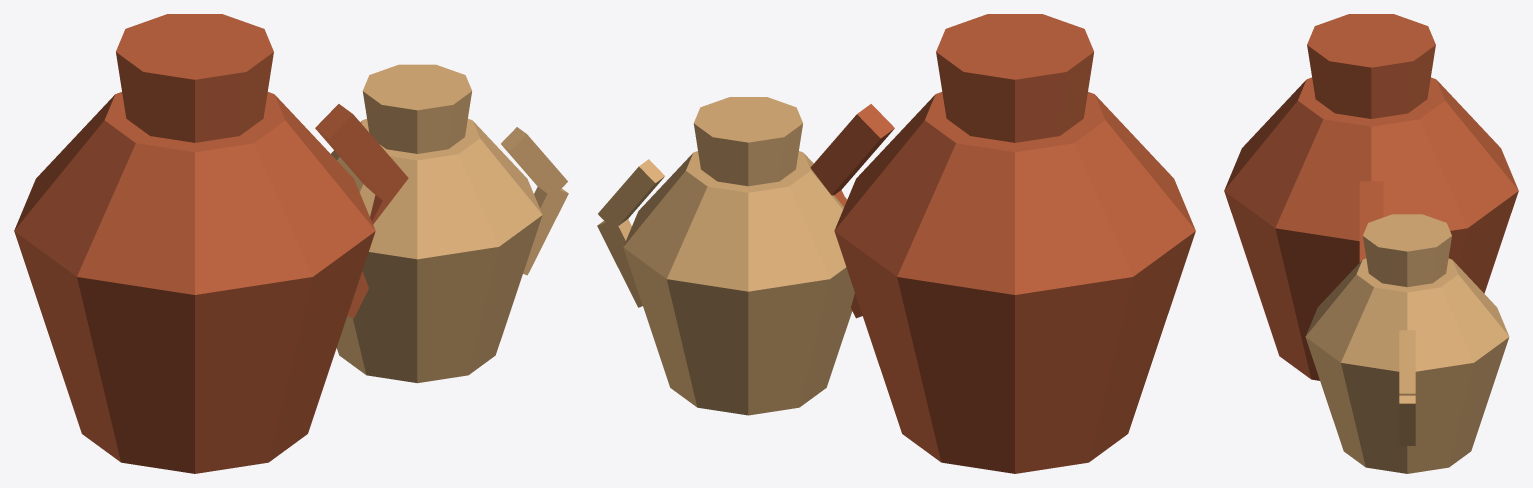
The model's file is Jugs.fbx.
3 views of the same model, side by side, from view 1: azimuth 30°, elevation 25°; view 2: azimuth 150°, elevation 25°; view 3: azimuth 270°, elevation 25° (orthographic). The views are drawn at different scales.
Visible parts, largest first — view 1: Jugs; view 2: Jugs; view 3: Jugs.
Boxes of the visible parts, box(x1,y1,x2,y2) form: Jugs: box(14, 14, 568, 473); Jugs: box(597, 14, 1195, 473); Jugs: box(1224, 14, 1518, 473).
Size of the model in its own units: 0.707 by 0.4745 by 0.4097.
